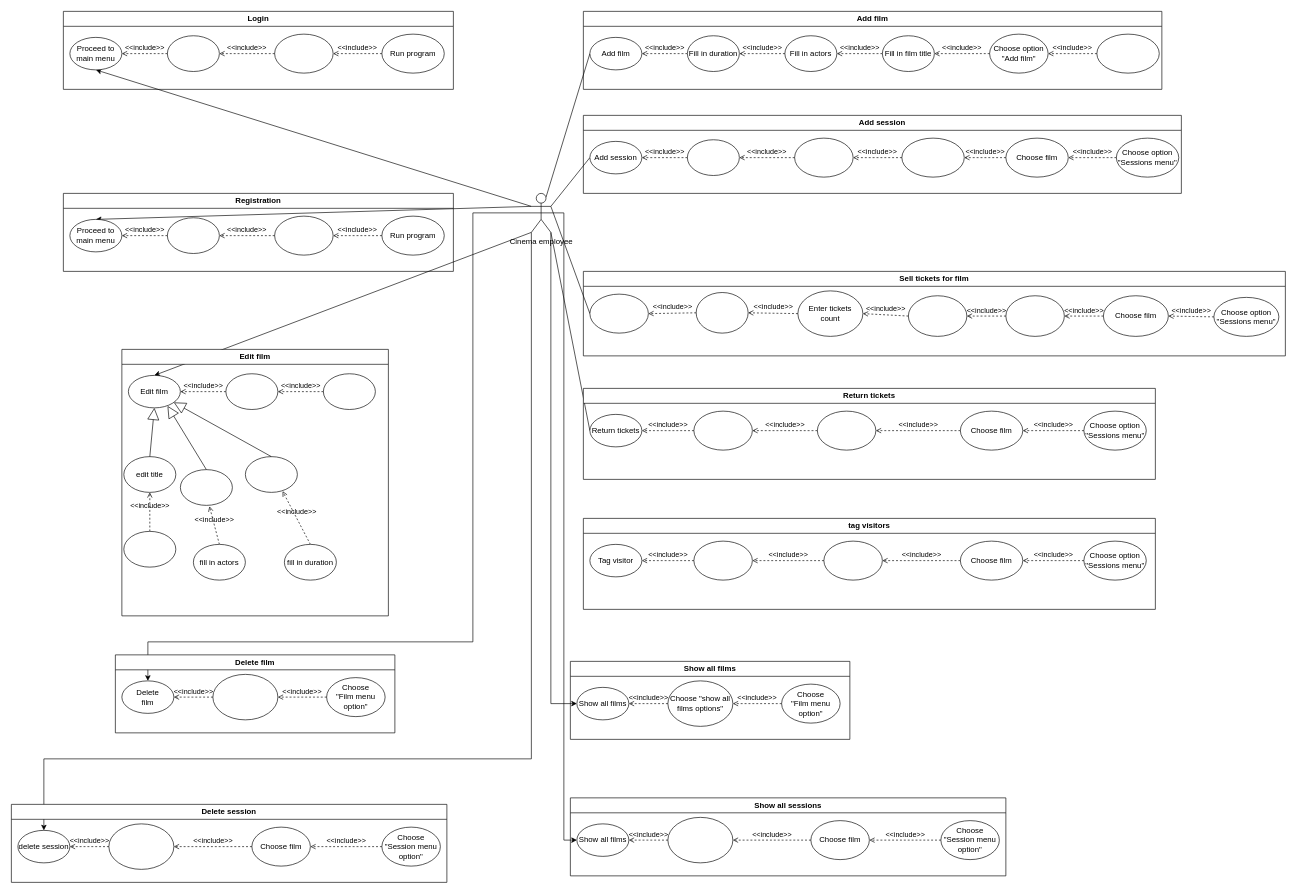
Image size: 1297x894. Some labels were removed from this diagram. The centre of each missing label's shape, as x and y in pixels:
Choose "delete films option": (245,697)
Choose "delete session option": (141,846)
Choose "show all sessions option": (700,840)
Choose film session: (937,315)
Choose login option: (303,53)
Choose option "Add session": (932,157)
Choose option "edit film": (251,391)
Choose option "Film menu": (349,391)
Choose option "Films menu": (1127,53)
Choose option "return tickets": (846,430)
Choose option "Sell ticket": (1034,315)
Choose option "tag visitors": (852,560)
Choose price: (713,157)
Choose register option: (303,235)
Choose seats: (722,312)
Choose start time: (823,157)
edit actors: (206,487)
edit duration: (271,474)
Enter login data: (193,53)
Enter register data: (193,235)
Enter seats to tag: (722,560)
Enter tickets to return: (722,430)
fill in new title: (149,549)
Sell tickets: (618,313)
